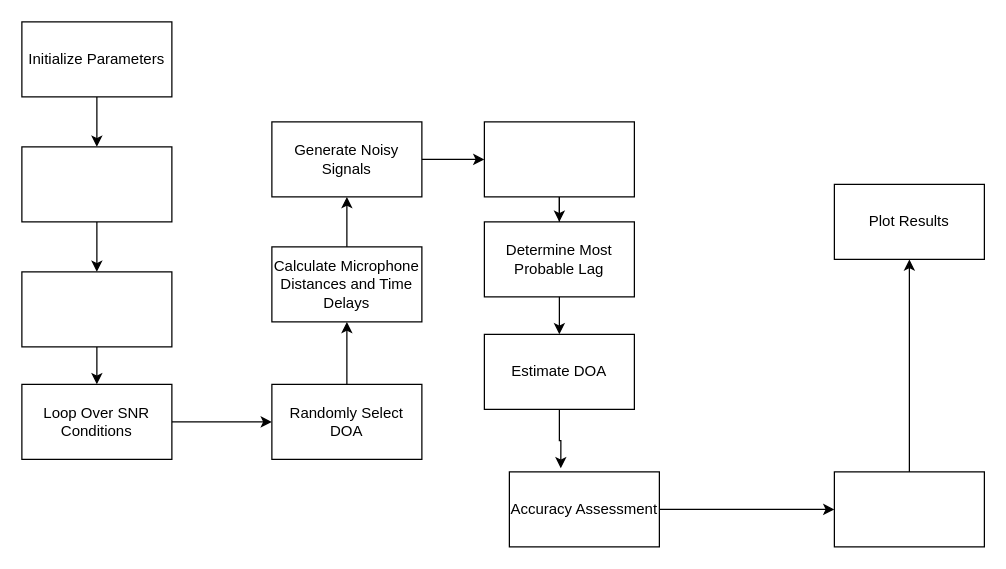
The diagram is 1006 pixels wide and 569 high, and some of its shapes have lost their labels. The shapes that lost their labels are listed below. From the top down, each one's centre as x and y in pixels, then its label:
the point at 558,159: Estimate Time Delays
the point at 96,184: Set Up Experiment Conditions
the point at 96,309: Load Original Signal
the point at 908,509: Record Accuracy
